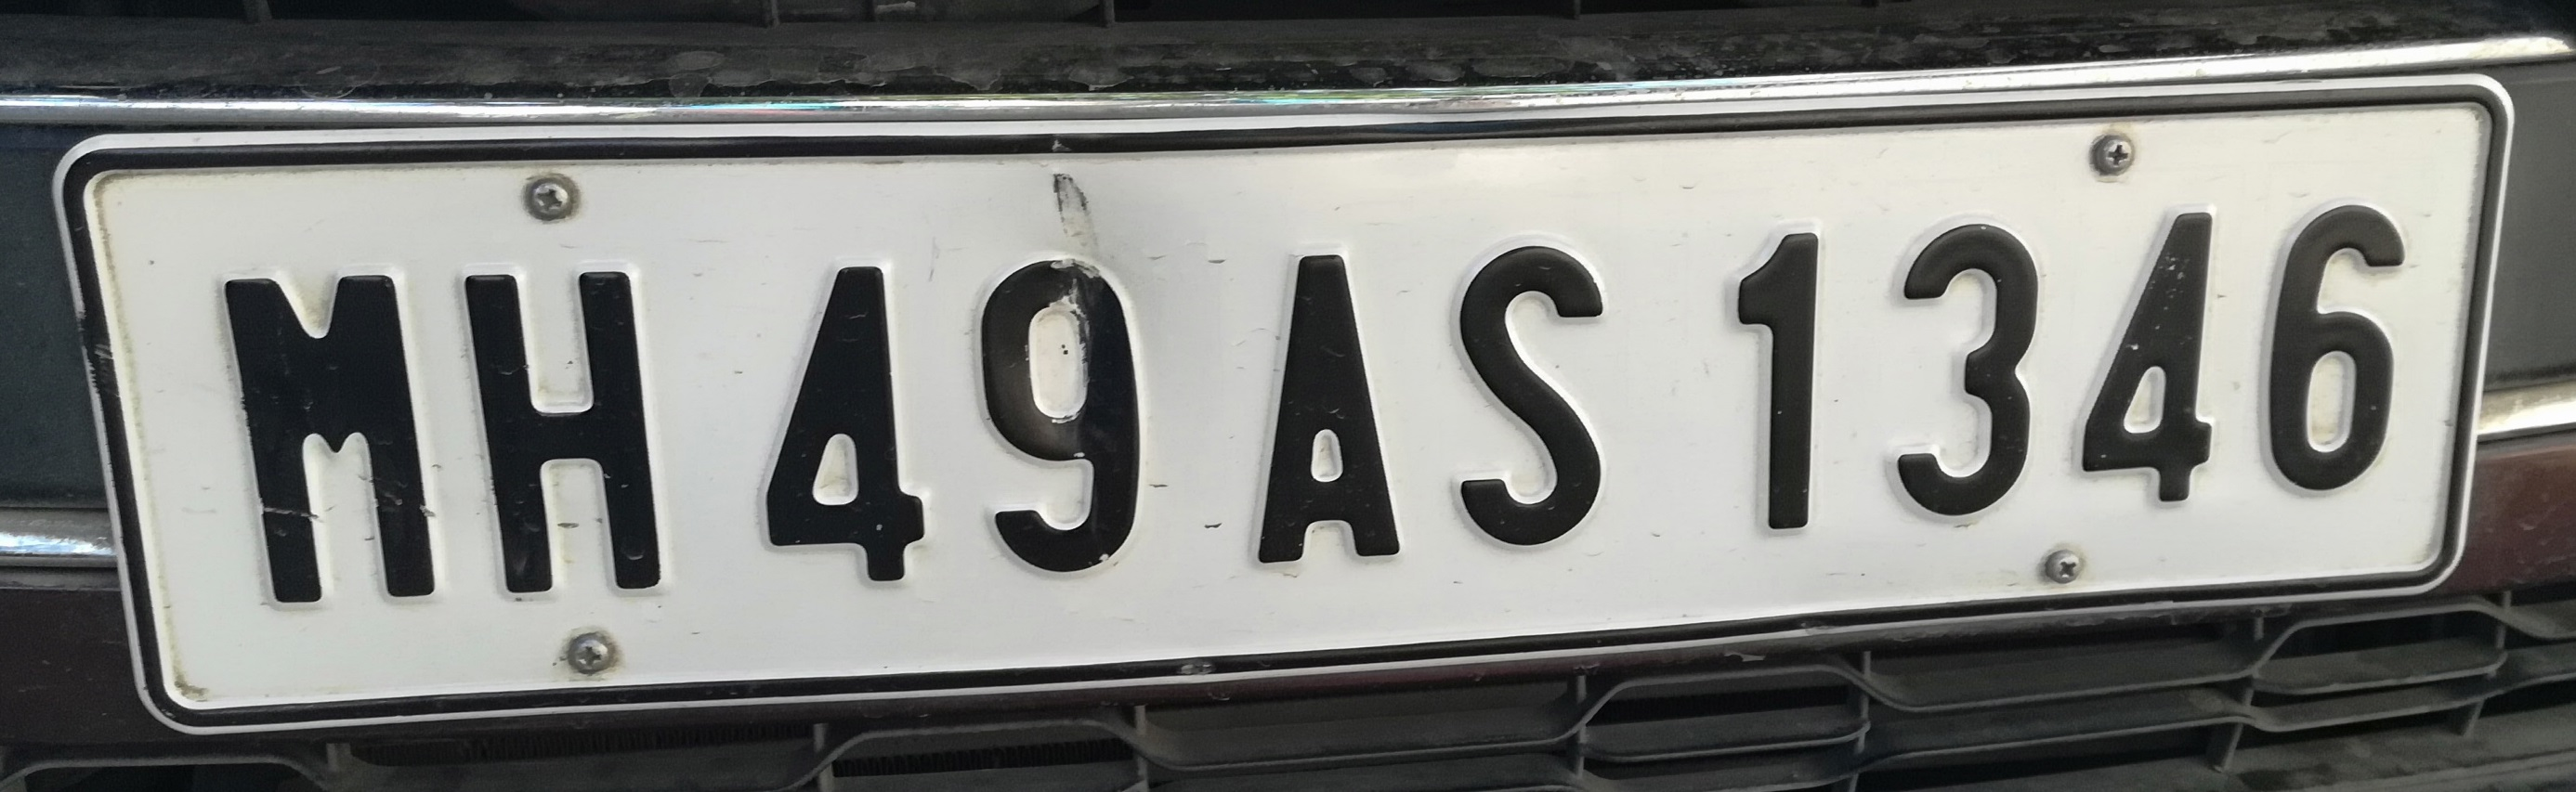numberplate: (58, 58, 2543, 741)
